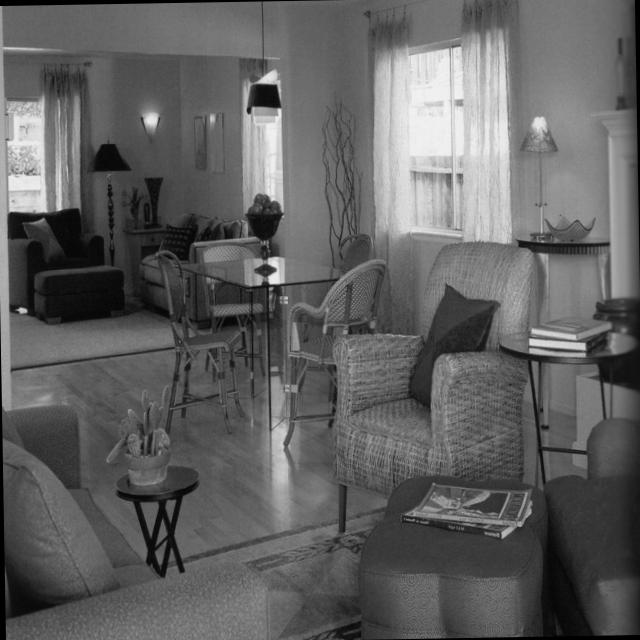2001: (385, 26, 503, 234)
bottle crop: (613, 36, 627, 109)
bowl of flowers: (246, 191, 283, 270)
cactus: (104, 380, 174, 479)
chair -occluded-: (334, 241, 529, 532), (283, 261, 388, 443), (159, 251, 247, 432), (11, 207, 104, 303), (203, 242, 264, 380), (340, 230, 373, 271)
couch -x: (4, 405, 272, 640), (139, 212, 249, 318)
curtain crop: (363, 5, 412, 334), (465, 0, 520, 241), (40, 60, 94, 233), (238, 58, 271, 211)
decorative glass bowl: (546, 214, 594, 242)
end table: (517, 225, 610, 415), (122, 217, 165, 297)
fence: (7, 117, 37, 140)
fireplace mantle: (575, 105, 637, 461)
floor -X: (11, 322, 385, 559)
flowers in pot: (121, 182, 145, 223)
jar -X: (592, 299, 638, 379)
lamp crop: (516, 113, 561, 236)
light fixture: (85, 141, 132, 262), (244, 1, 281, 123), (141, 113, 163, 144)
ottoman: (360, 475, 544, 636), (35, 263, 127, 321)
picture crop: (210, 112, 225, 172), (194, 114, 205, 168)
pillow occluded: (411, 281, 500, 406), (24, 217, 66, 261), (160, 223, 191, 255)
rug -partially obscured-: (159, 504, 384, 639), (10, 299, 201, 370)
shrub -X: (11, 143, 38, 170)
stack of books: (400, 482, 534, 539), (526, 314, 613, 356)
table -X: (502, 330, 635, 481), (118, 463, 199, 567)
tabletop: (176, 254, 350, 285)
vase -X: (144, 176, 165, 223)
wall clock: (282, 0, 635, 415), (3, 1, 284, 294), (0, 6, 9, 408)
willow branches: (320, 96, 361, 261)
